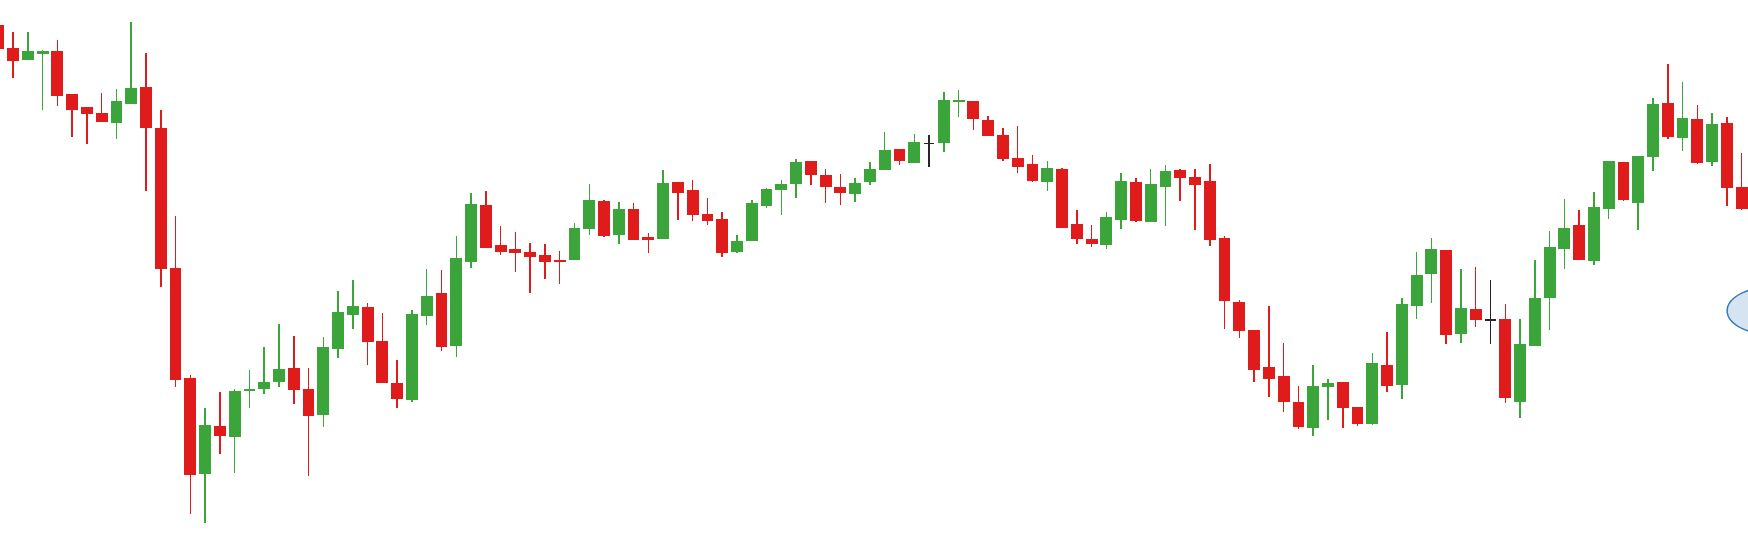buy: (1378, 278, 1528, 427), (645, 195, 742, 263)
sell: (46, 16, 138, 117)
